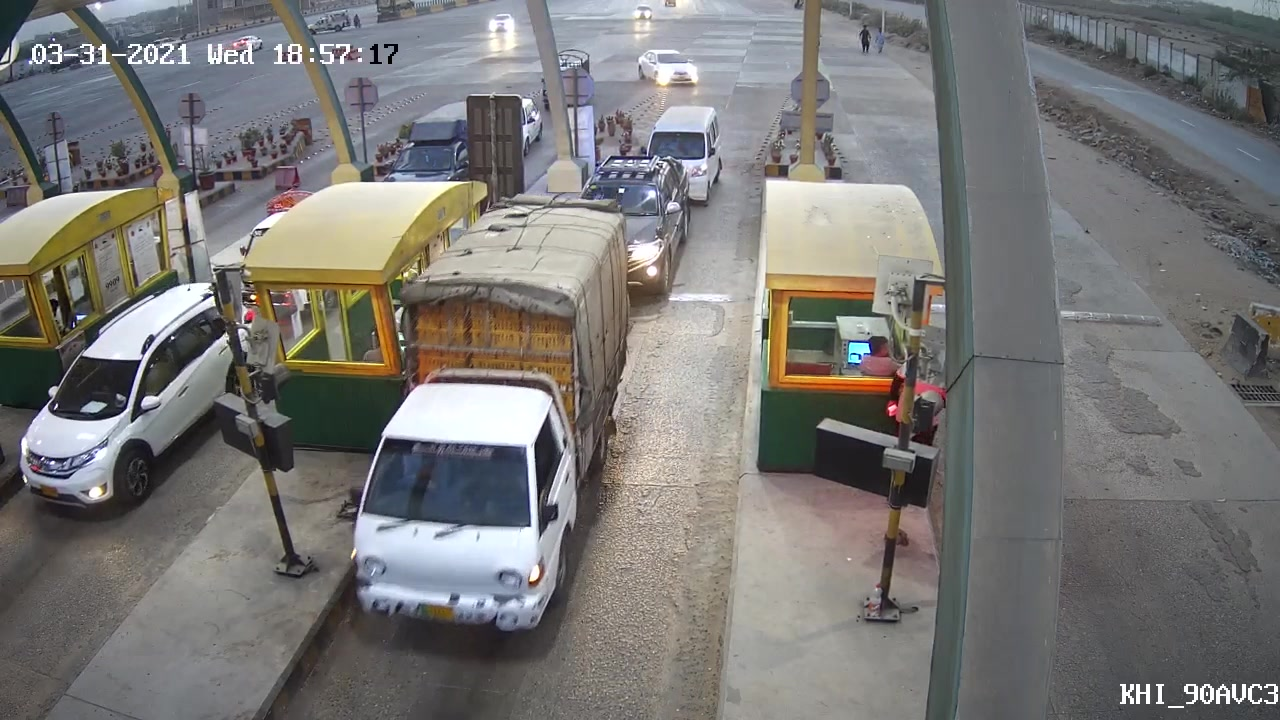F2: (339, 258, 618, 644)
